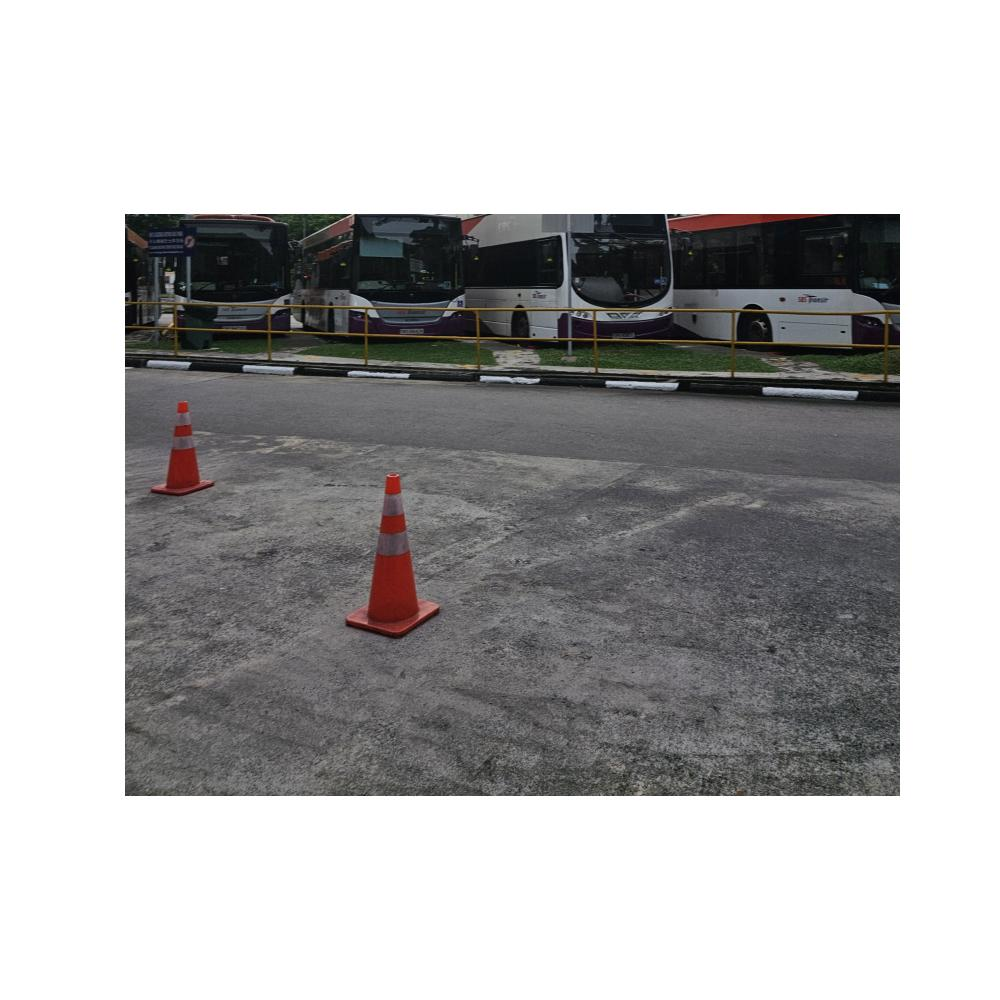bus: (667, 217, 900, 350), (458, 215, 674, 349), (296, 216, 463, 337), (165, 216, 295, 343)
